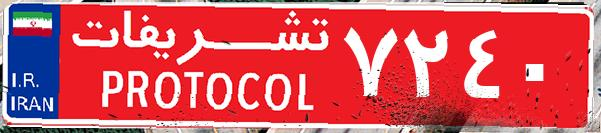0: (520, 20, 580, 115)
2: (400, 20, 460, 115)
4: (460, 20, 520, 115)
7: (340, 20, 400, 115)
تشریفات: (60, 8, 340, 125)
